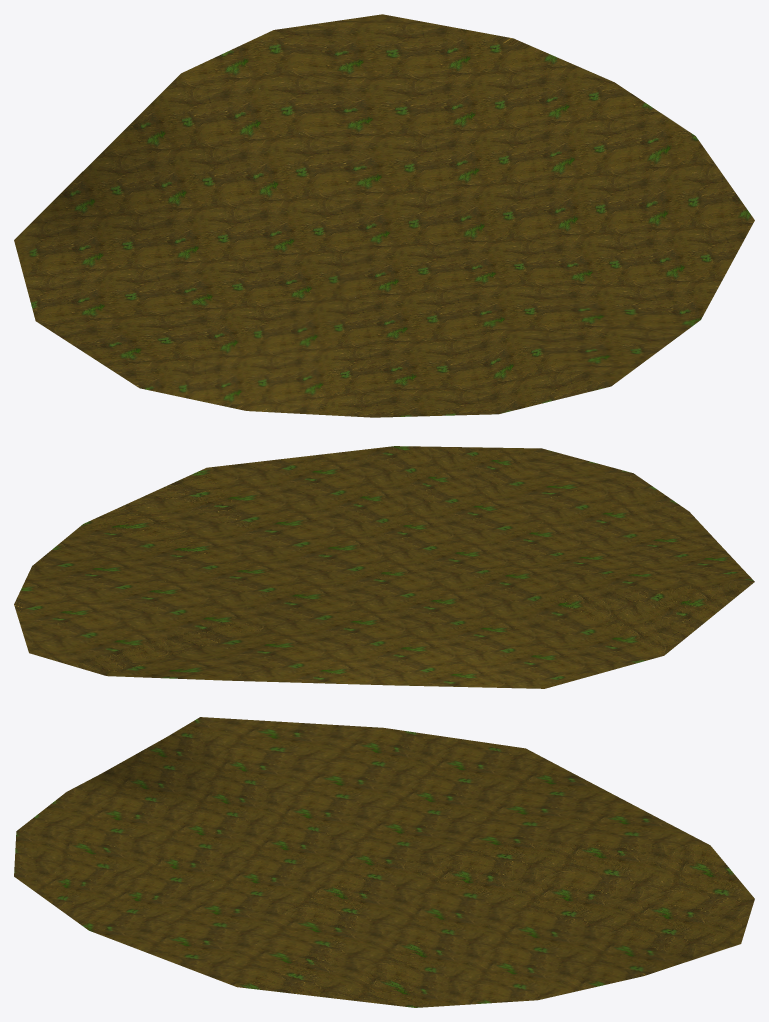
The model's file is INST_PITCOVER_GROUND.fbx.
3 views of the same model, one above another, from view 1: azimuth 30°, elevation 25°; view 2: azimuth 150°, elevation 25°; view 3: azimuth 270°, elevation 25° (orthographic). The views are drawn at different scales.
Visible parts, largest first — view 1: INST_PITCOVER_GROUND; view 2: INST_PITCOVER_GROUND; view 3: INST_PITCOVER_GROUND.
Boxes of the visible parts, x1,y1,x2,y2 form: INST_PITCOVER_GROUND: (14,14,754,417); INST_PITCOVER_GROUND: (14,446,754,688); INST_PITCOVER_GROUND: (14,717,754,1007).
Bounding box in the file's own units: 128134 × 4956 × 140139.
1 material, 1 textured.
